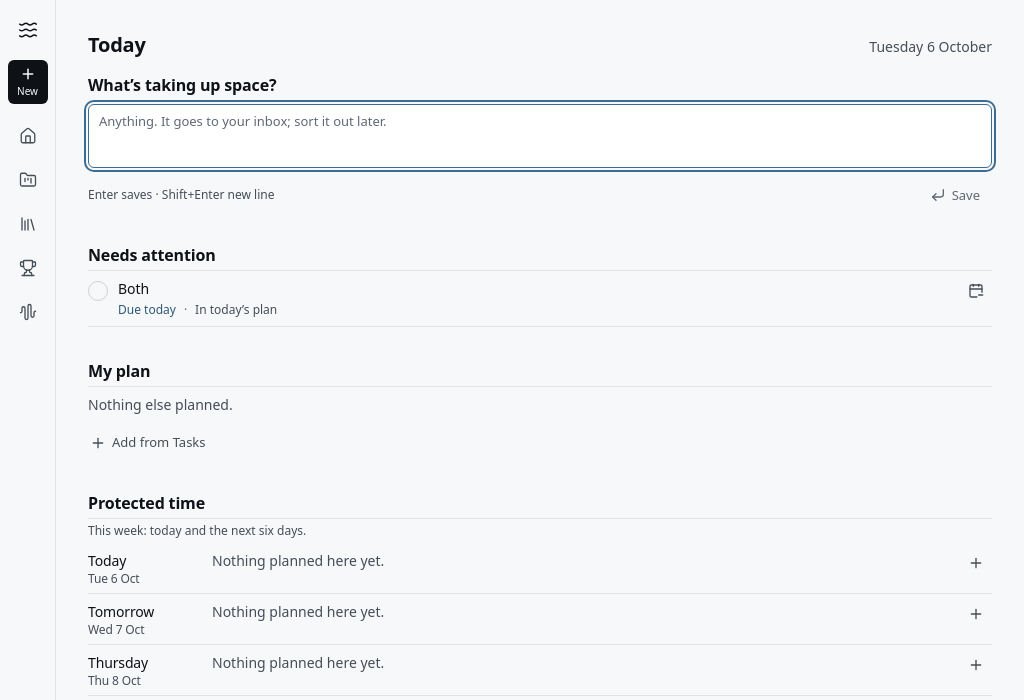
Today page › shows a task due and planned today once, and keeps it there when unplanned
Expected: the heading "Today" is shown, [88,32,146,58]
Expected: the heading "Needs attention" is shown, [88,244,216,266]
Click the button named "Take out of today’s plan: Both". click: point(976, 291)
box: [960,275,992,307]
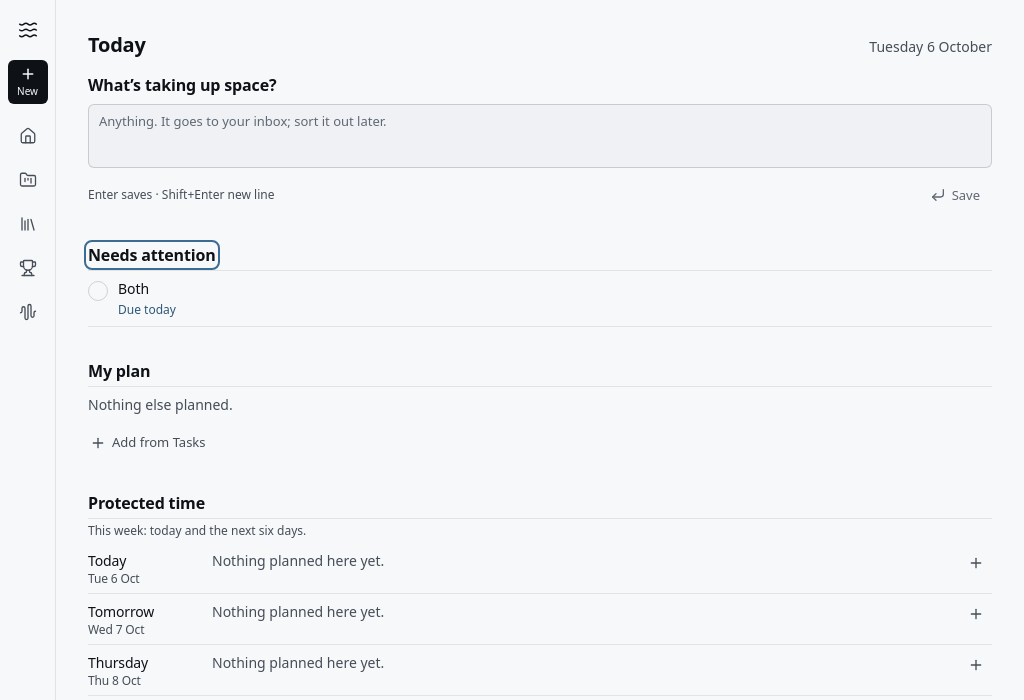
Expected: the text "Both" is shown, [118,279,149,298]
Now the text "In today’s plan" is gone
